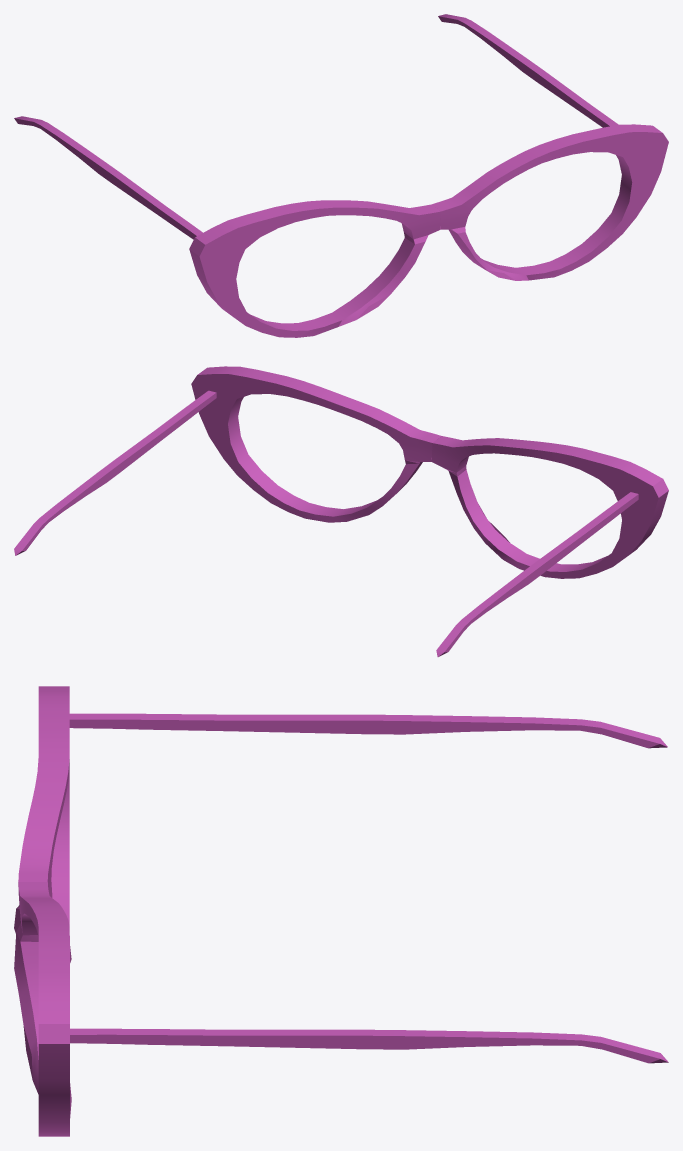
Rendered from cateyes.glb.
The picture shows the model from 3 angles, top to bottom: view 1: azimuth 30°, elevation 25°; view 2: azimuth 150°, elevation 25°; view 3: azimuth 270°, elevation 25°; orthographic projection. The views are drawn at different scales.
Parts seen in each view (by area): view 1: Cube.001; view 2: Cube.001; view 3: Cube.001.
Part boxes in pixels (x1,y1,x2,y2): Cube.001: (14, 14, 668, 337); Cube.001: (14, 366, 668, 656); Cube.001: (14, 686, 668, 1136).
Bounding box in the file's own units: 0.158 × 0.0413 × 0.1263.
